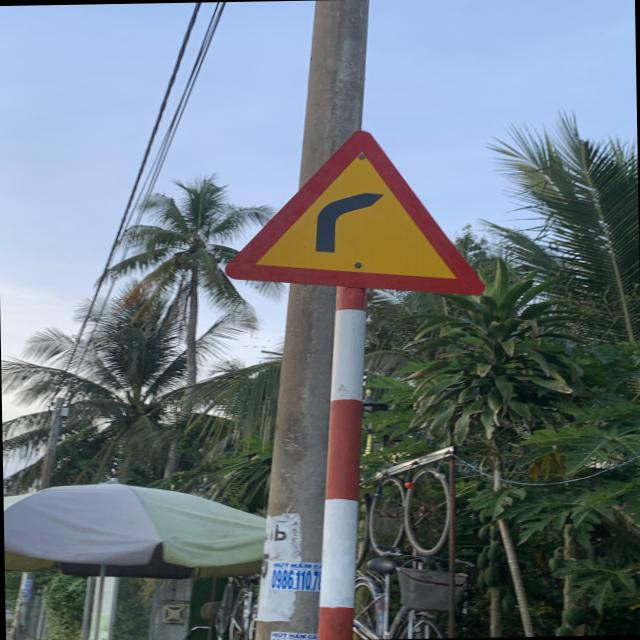Duong_Nguoi_Di_Bo_Cat_Ngang: (222, 128, 484, 296)
